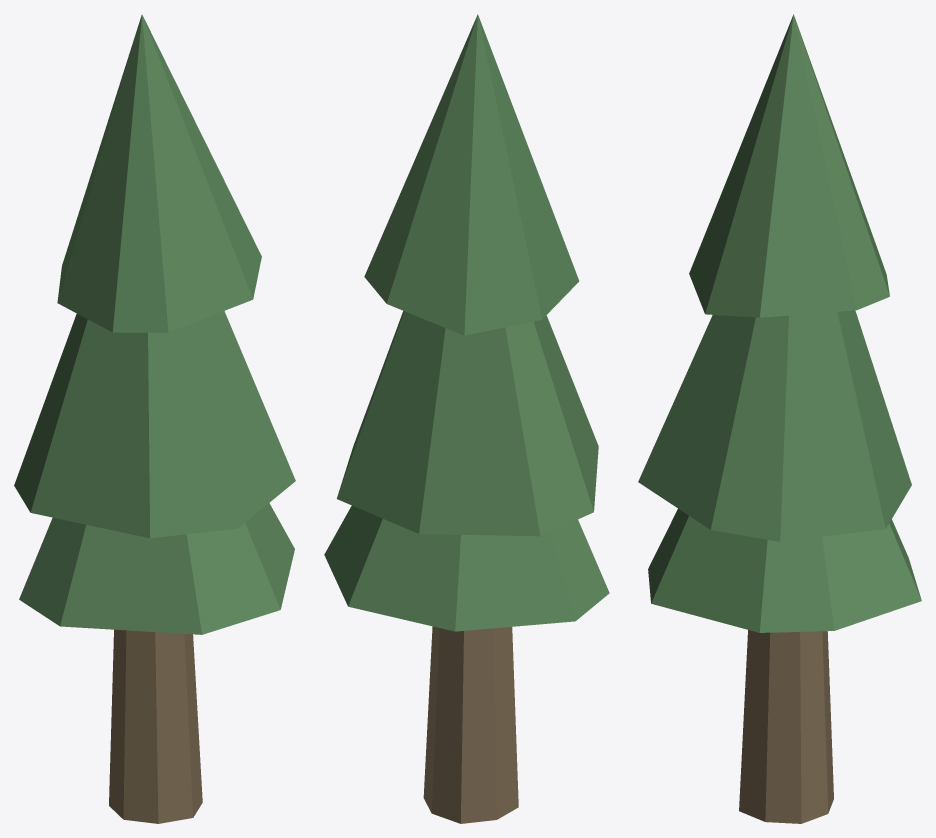
The model's file is Tree2.021.fbx.
The picture shows the model from 3 angles, left to right: view 1: azimuth 30°, elevation 25°; view 2: azimuth 150°, elevation 25°; view 3: azimuth 270°, elevation 25°; orthographic projection.
Visible parts, largest first — view 1: Tree2.021; view 2: Tree2.021; view 3: Tree2.021.
Part boxes in pixels (<box>): Tree2.021: <box>14,14,295,823</box>; Tree2.021: <box>324,14,609,823</box>; Tree2.021: <box>638,14,921,823</box>.
Bounding box in the file's own units: 94.93 × 287 × 94.02.
